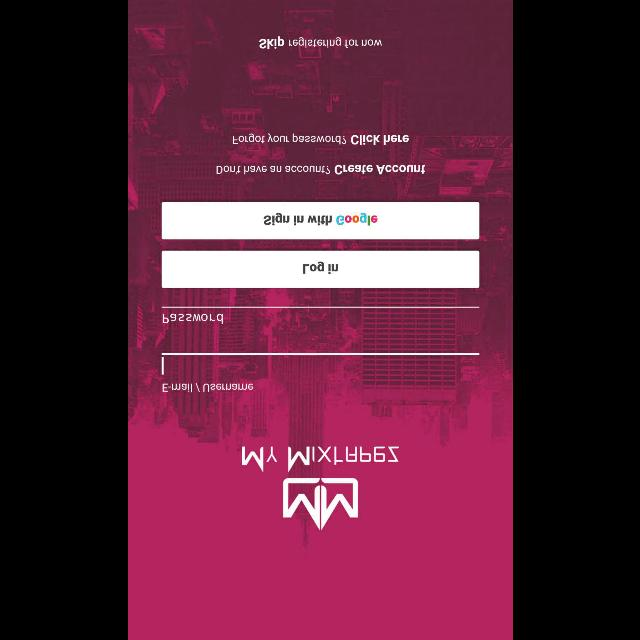backgroundimage: (128, 1, 512, 640)
image: (241, 446, 399, 530)
input: (161, 353, 479, 393), (161, 306, 479, 324)
text: (232, 133, 408, 145), (216, 164, 424, 174), (258, 36, 382, 50), (162, 382, 252, 392), (162, 314, 222, 324)
textbutton: (161, 202, 479, 240), (161, 250, 479, 288)
